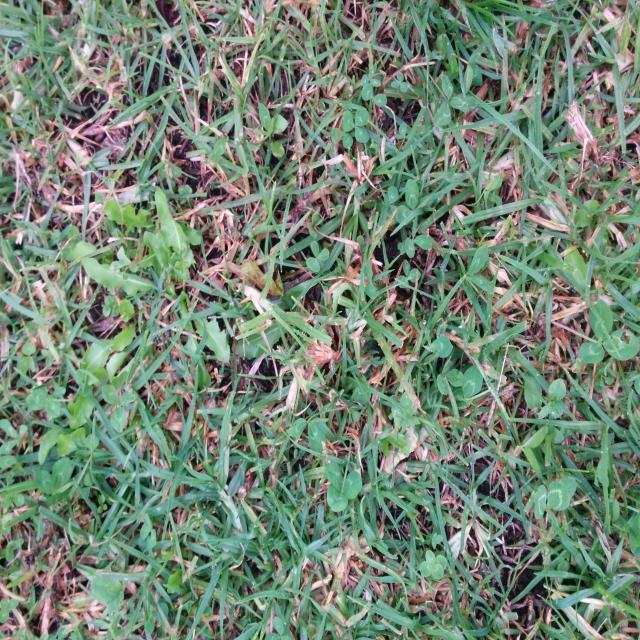Four Leaf Clover: (419, 550, 447, 580)
